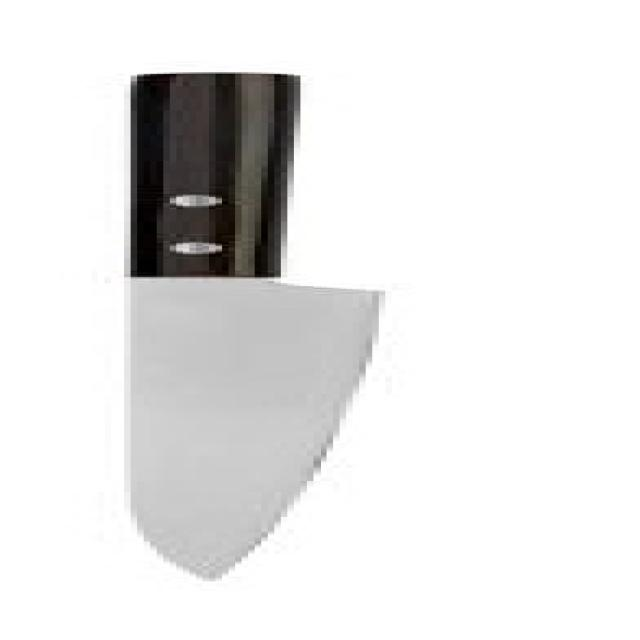knife: (112, 66, 412, 586)
